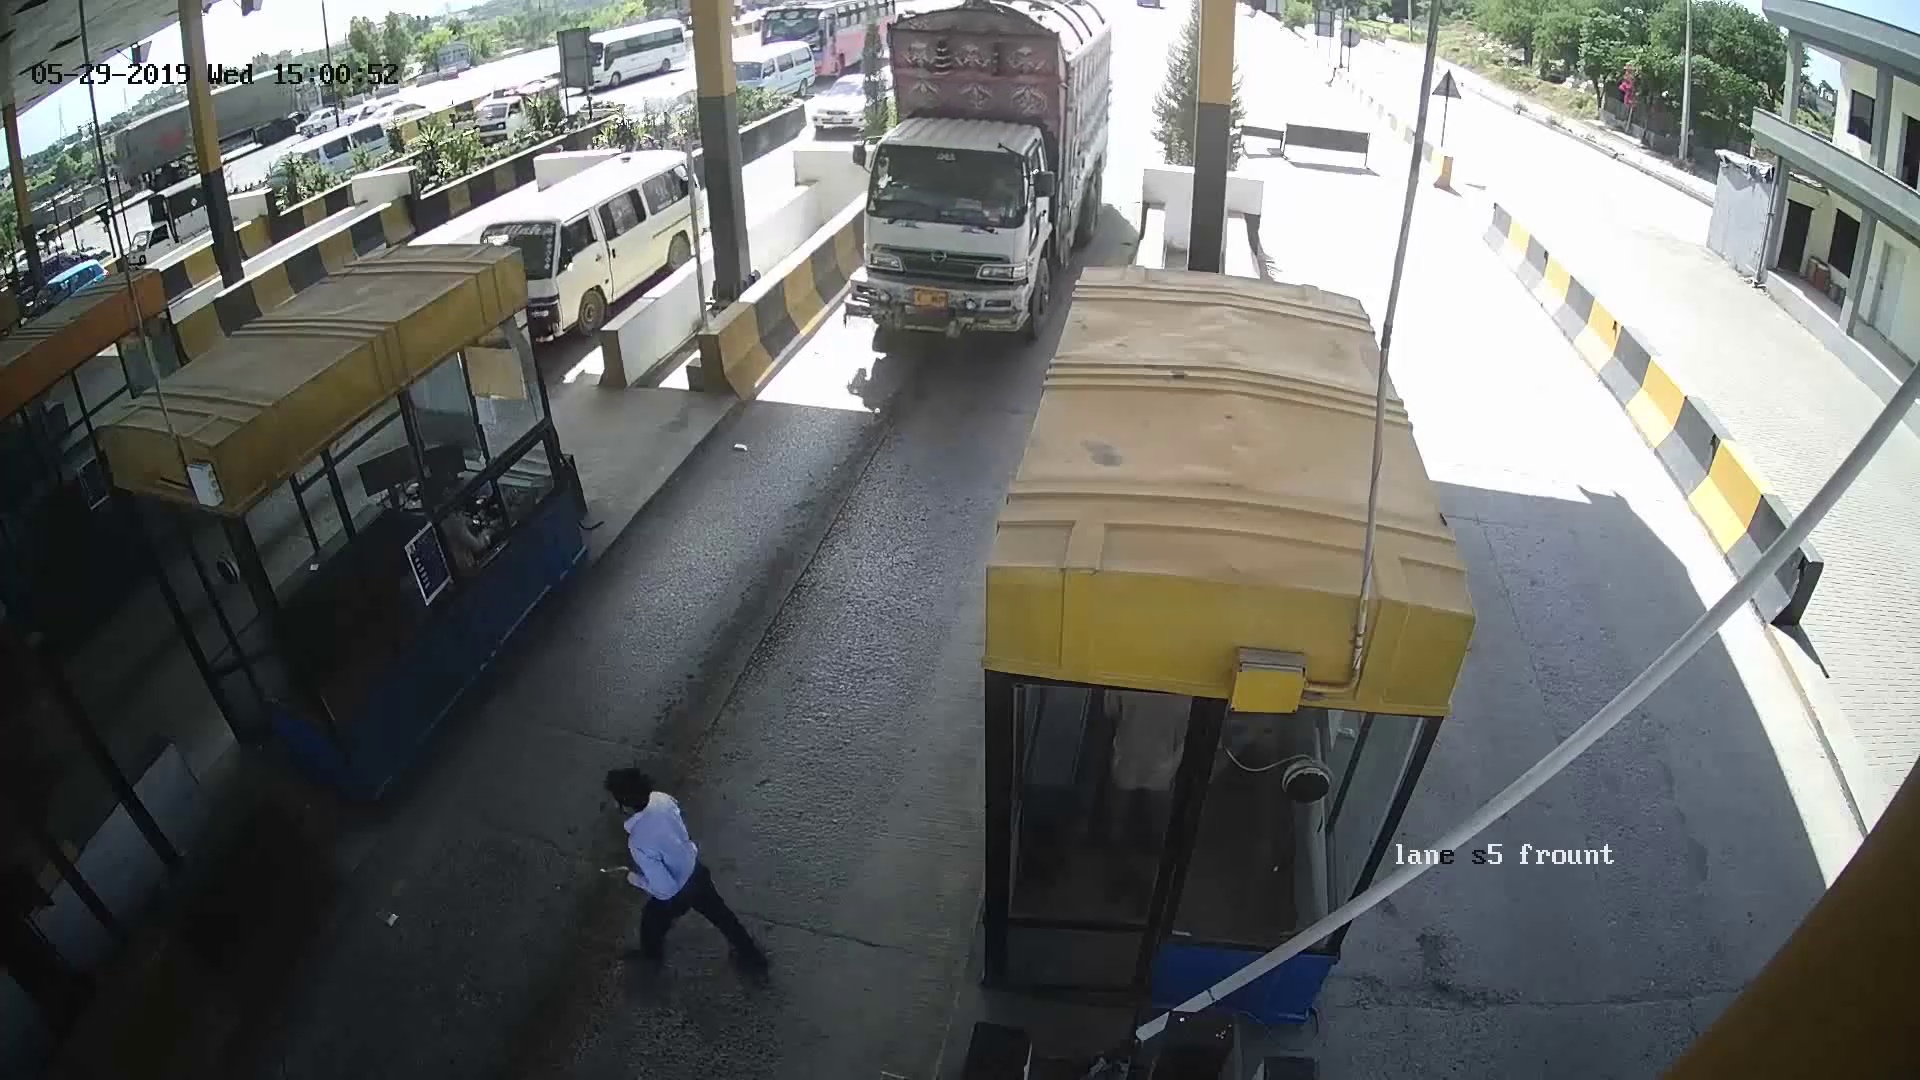truck: (848, 38, 1038, 357)
